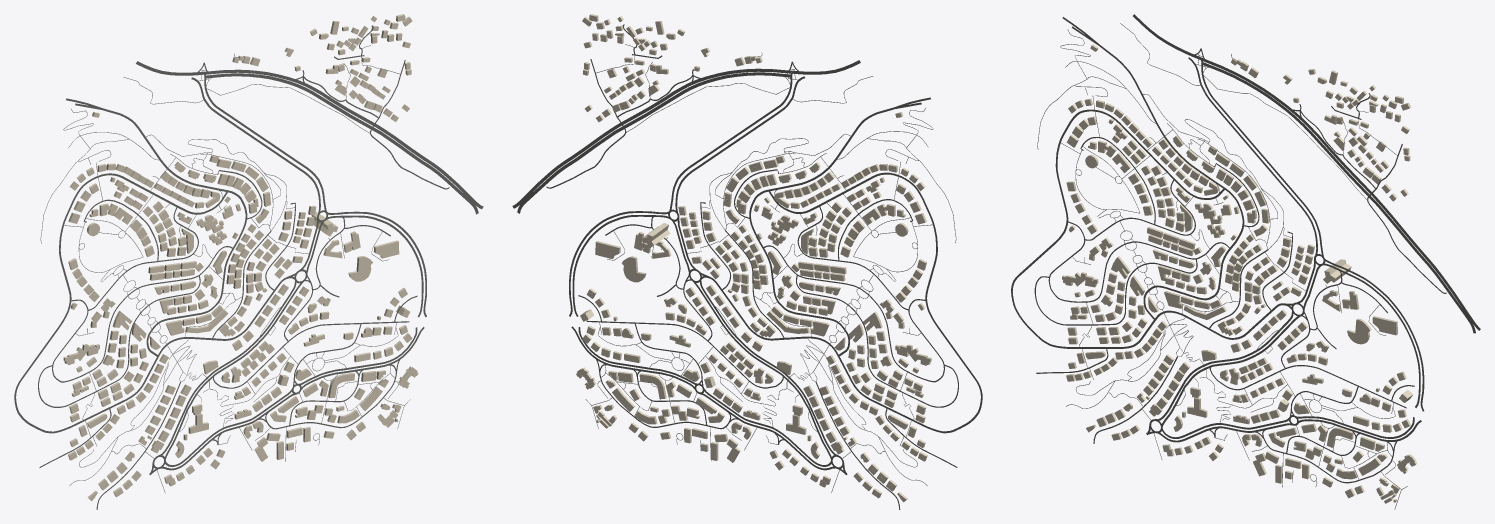
Rendered from historic-palestine-10_23_3522_3172.glb.
3 views of the same model, side by side, from view 1: azimuth 30°, elevation 25°; view 2: azimuth 150°, elevation 25°; view 3: azimuth 330°, elevation 25° (orthographic).
Parts seen in each view (by area): view 1: Road יצחק ניסים, Road 398.001, Road 398, Road שאול אביגור.001; view 2: Road יצחק ניסים, Road 398.001, Road 398, Road שאול אביגור.001; view 3: Road 398.001, Road 398, Road יצחק ניסים, Road שאול אביגור.001, Road זרח ורהפטיג.003.
Boxes of the visible parts, x1=… form: Road יצחק ניסים: x1=14, y1=173, x2=177, y2=433; Road 398.001: x1=205, y1=73, x2=478, y2=214; Road 398: x1=208, y1=69, x2=483, y2=209; Road שאול אביגור.001: x1=52, y1=246, x2=233, y2=382; Road יצחק ניסים: x1=819, y1=172, x2=982, y2=433; Road 398.001: x1=517, y1=72, x2=790, y2=213; Road 398: x1=512, y1=68, x2=788, y2=208; Road שאול אביגור.001: x1=763, y1=245, x2=944, y2=382; Road 398.001: x1=1202, y1=62, x2=1475, y2=333; Road 398: x1=1205, y1=59, x2=1480, y2=330; Road יצחק ניסים: x1=1011, y1=109, x2=1174, y2=348; Road שאול אביגור.001: x1=1048, y1=239, x2=1229, y2=302; Road זרח ורהפטיג.003: x1=1188, y1=57, x2=1317, y2=255.
Size of the model in its own units: 1323 by 1183 by 80.39.
